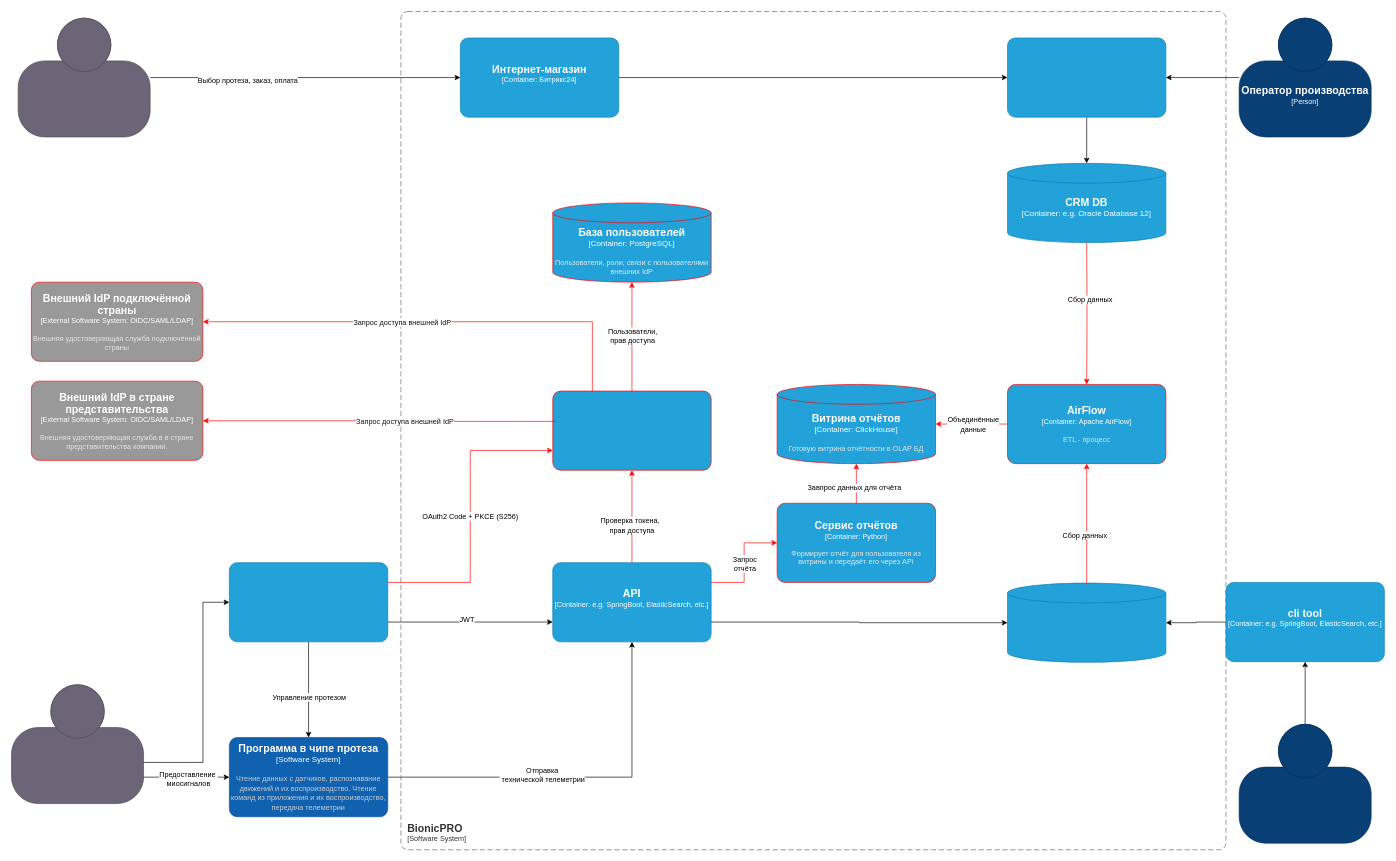
This 1396x861 diagram has some shape labels left out. The shapes that lost their labels are listed below. From the top down, each one's centre as x and y in pixels, then its label:
(83,77): Покупатель протеза [Person]
(1086,77): CRM [Container: Битрикс24]
(631,430): Keycloak [Container: IdP / IAM] SSO, брокер IdP, LDAP, PKCE для клиентов
(308,602): Приложение для донастройки протеза [Container: iOD, Android]
(1086,622): База данных [Container: PostgreSQL]
(77,744): Пилот протеза [Person] С этого человека считываются данные
(1304,783): ML-инженер [Person]
